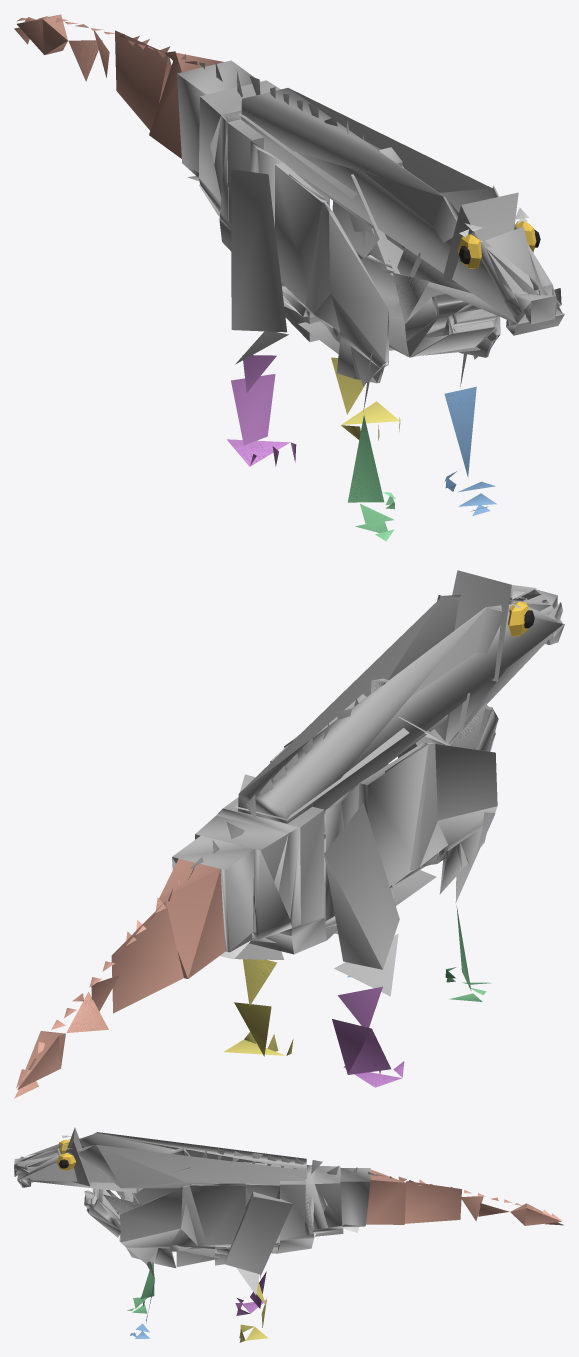
File: edmonto.fbx
3 views of the same model, one above another, from view 1: azimuth 30°, elevation 25°; view 2: azimuth 150°, elevation 25°; view 3: azimuth 270°, elevation 25° (orthographic). The views are drawn at different scales.
Visible parts, largest first — view 1: edmonto_Body, edmonto_Tail, edmonto_LegBR, edmonto_LegFR, edmonto_LegFL, edmonto_LegBL, edmonto_Eyes; view 2: edmonto_Body, edmonto_Tail, edmonto_LegBR, edmonto_LegBL, edmonto_LegFR; view 3: edmonto_Body, edmonto_Tail, edmonto_LegFR, edmonto_LegBL, edmonto_LegBR, edmonto_Eyes.
Part boxes in pixels (left/top/right/bottom): edmonto_Body: left=177, top=60, right=564, bottom=411; edmonto_Tail: left=14, top=14, right=223, bottom=158; edmonto_LegBR: left=227, top=355, right=296, bottom=466; edmonto_LegFR: left=347, top=415, right=395, bottom=541; edmonto_LegFL: left=444, top=386, right=496, bottom=515; edmonto_LegBL: left=331, top=357, right=400, bottom=440; edmonto_Eyes: left=457, top=221, right=536, bottom=268; edmonto_Body: left=172, top=570, right=564, bottom=996; edmonto_Tail: left=14, top=858, right=225, bottom=1098; edmonto_LegBR: left=332, top=986, right=404, bottom=1087; edmonto_LegBL: left=224, top=959, right=293, bottom=1056; edmonto_LegFR: left=445, top=906, right=490, bottom=1001; edmonto_Body: left=14, top=1127, right=376, bottom=1295; edmonto_Tail: left=366, top=1169, right=563, bottom=1225; edmonto_LegFR: left=127, top=1263, right=154, bottom=1313; edmonto_LegBL: left=239, top=1281, right=268, bottom=1342; edmonto_LegBR: left=235, top=1271, right=266, bottom=1315; edmonto_Eyes: left=56, top=1139, right=75, bottom=1170.
Size of the model in its own units: 1.63 by 3.64 by 9.46.
